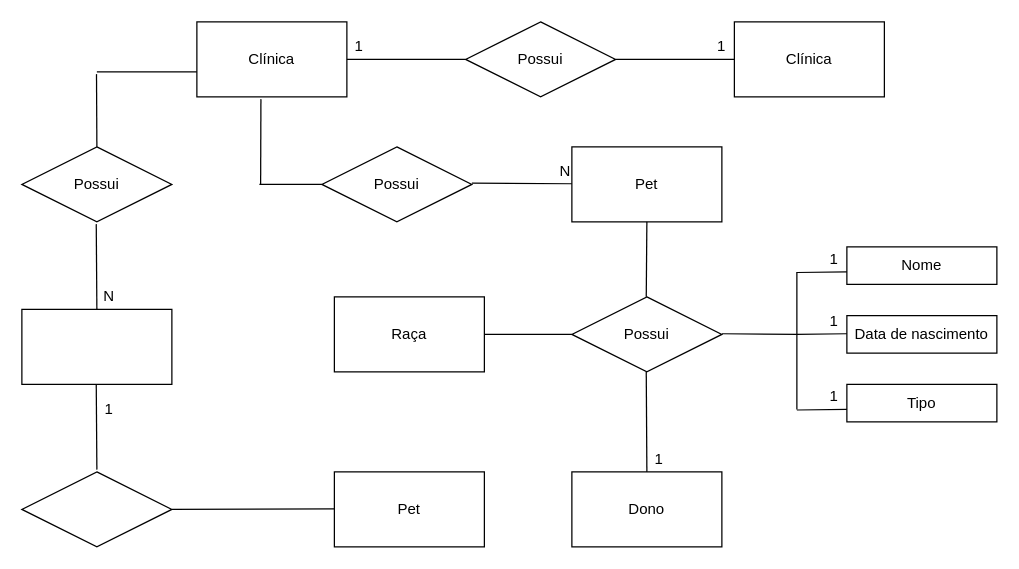
Image size: 1019x569. Some labels were removed from this diagram. The shapes that lost their labels are listed below. From the top down, each one's box as (x1, y1, x2, y2) in pixels, then its label:
(21, 308, 172, 384): Veterinários
(21, 471, 172, 547): Atendimento
